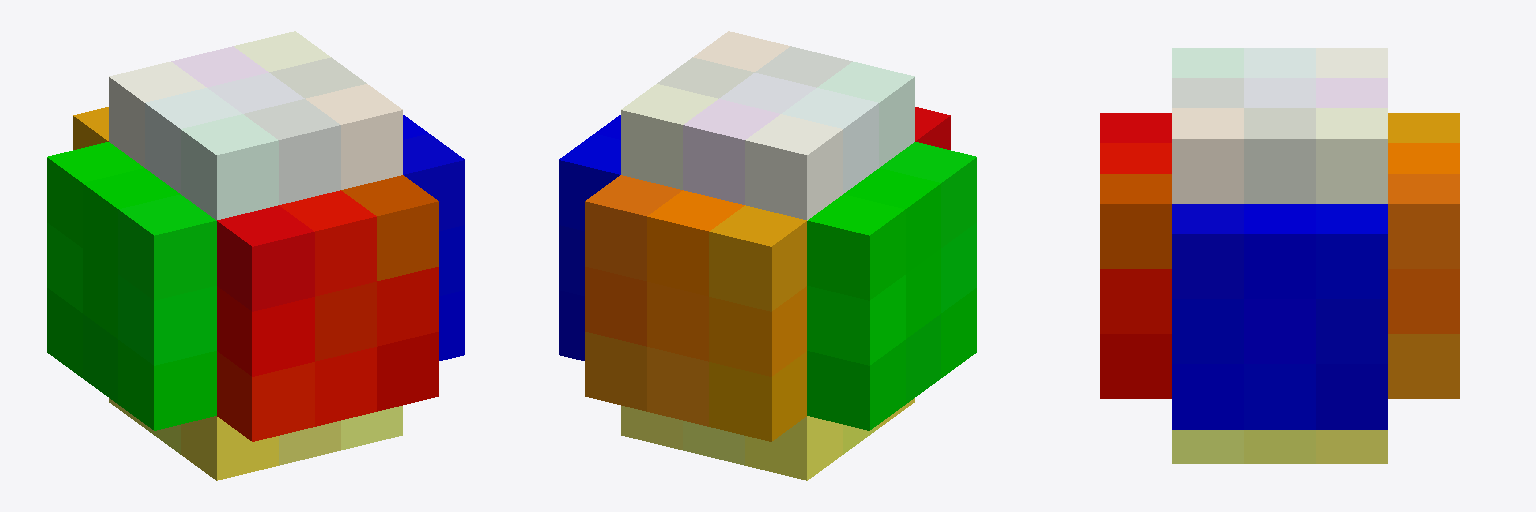
Rendered from iter_500.obj.
The picture shows the model from 3 angles: view 1: azimuth 30°, elevation 25°; view 2: azimuth 150°, elevation 25°; view 3: azimuth 270°, elevation 25°; orthographic projection.
Parts seen in each view (by area): view 1: iter_500; view 2: iter_500; view 3: iter_500.
Boxes of the visible parts, box(x1,y1,x2,y2) form: iter_500: box(47, 31, 464, 480); iter_500: box(559, 31, 976, 480); iter_500: box(1100, 48, 1459, 463).
Bounding box in the file's own units: 0.5 × 0.5 × 0.5.